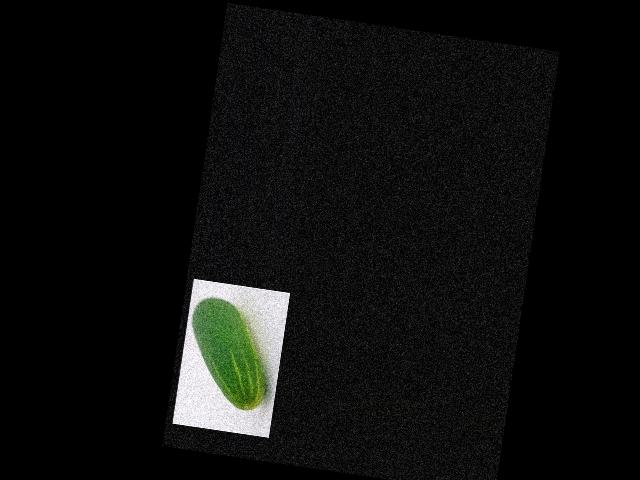cucumber: (180, 294, 277, 412)
